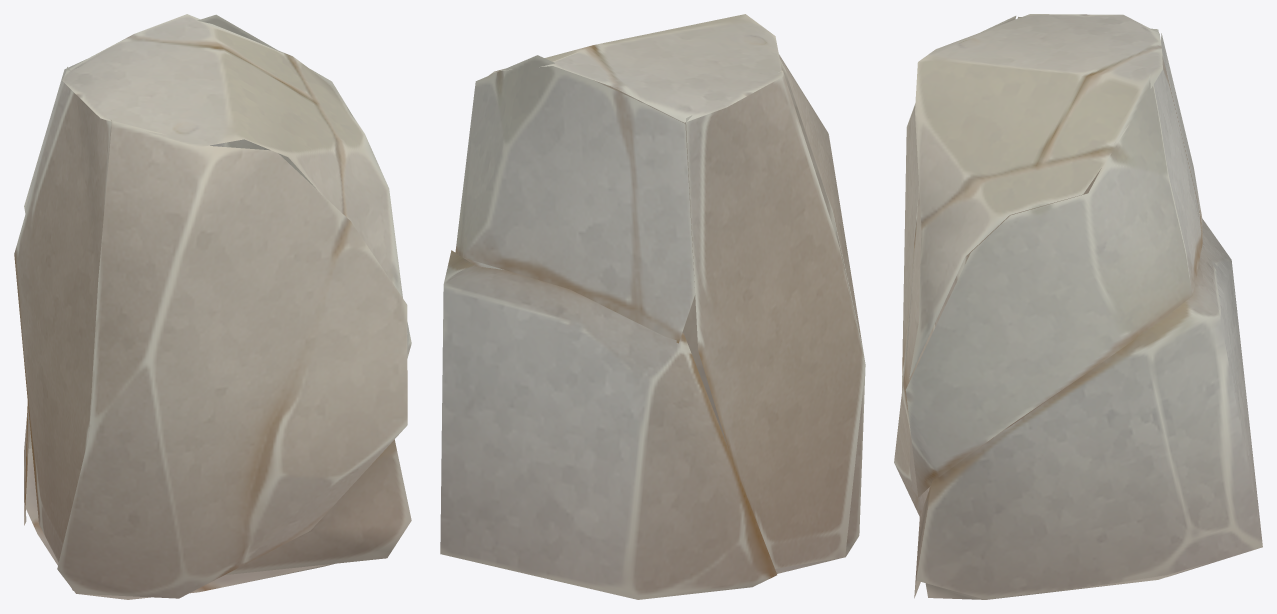
Rendered from rock3_lod2.gltf.
3 renders of one model, left to right at view 1: azimuth 30°, elevation 25°; view 2: azimuth 150°, elevation 25°; view 3: azimuth 270°, elevation 25°, orthographic. The views are drawn at different scales.
Visible parts, largest first — view 1: Rock8; view 2: Rock8; view 3: Rock8.
Part boxes in pixels (x1,y1,x2,y2): Rock8: (14,14,411,599); Rock8: (440,14,865,599); Rock8: (894,14,1262,599).
Bounding box in the file's own units: 0.8761 × 1.26 × 0.8508.
Materials: 1 (1 with a texture image).
